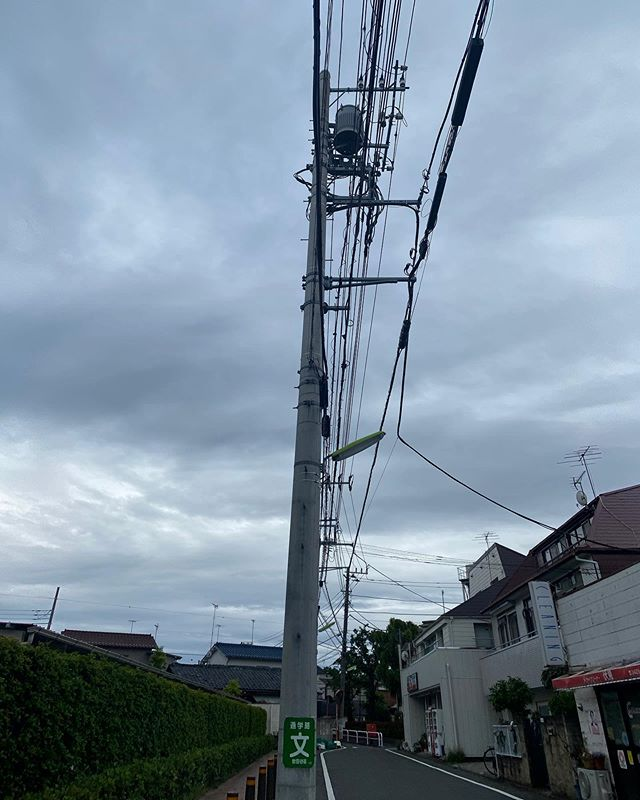building: (382, 492, 640, 800), (194, 633, 302, 725)
power pole: (256, 80, 430, 800)
sky: (15, 1, 640, 585)
vegetation: (1, 622, 273, 800)
